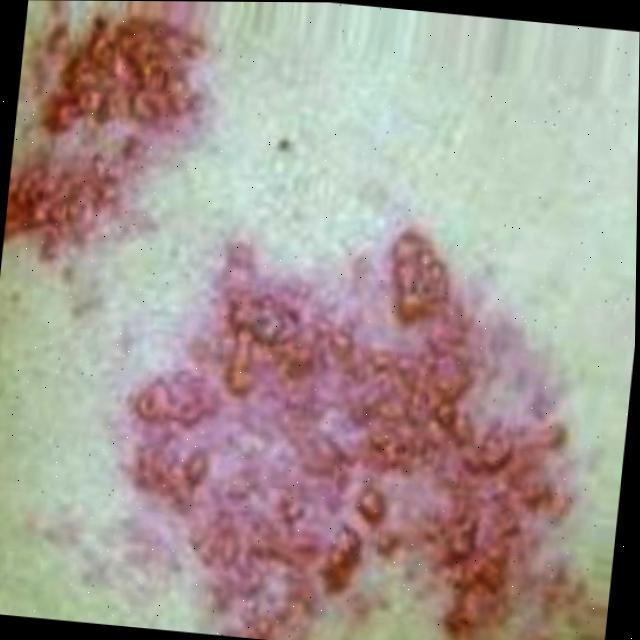Shingles: (133, 220, 607, 640), (2, 11, 195, 256)
